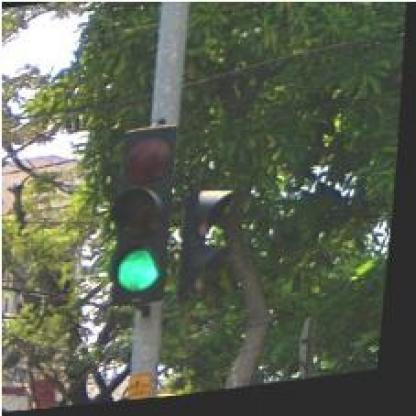green: (107, 127, 182, 309)
